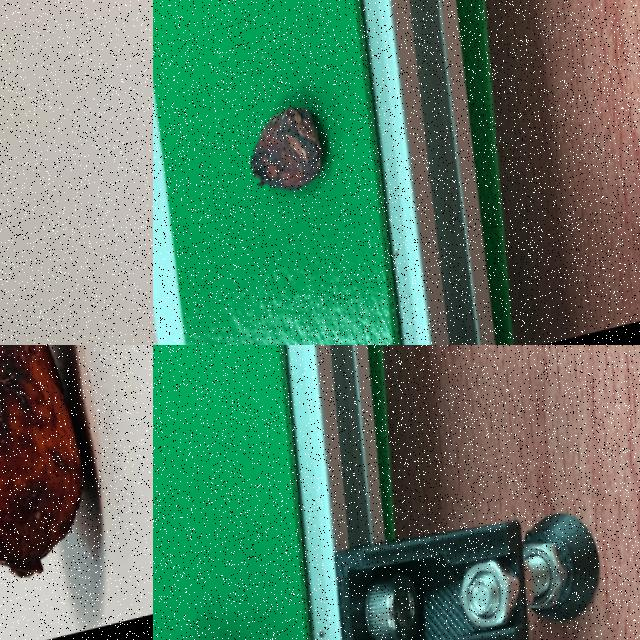Agglomerated_cocoabeans: (0, 345, 152, 639), (97, 0, 152, 344), (153, 538, 315, 639)
Flat_cocoabeans: (218, 57, 380, 234)
